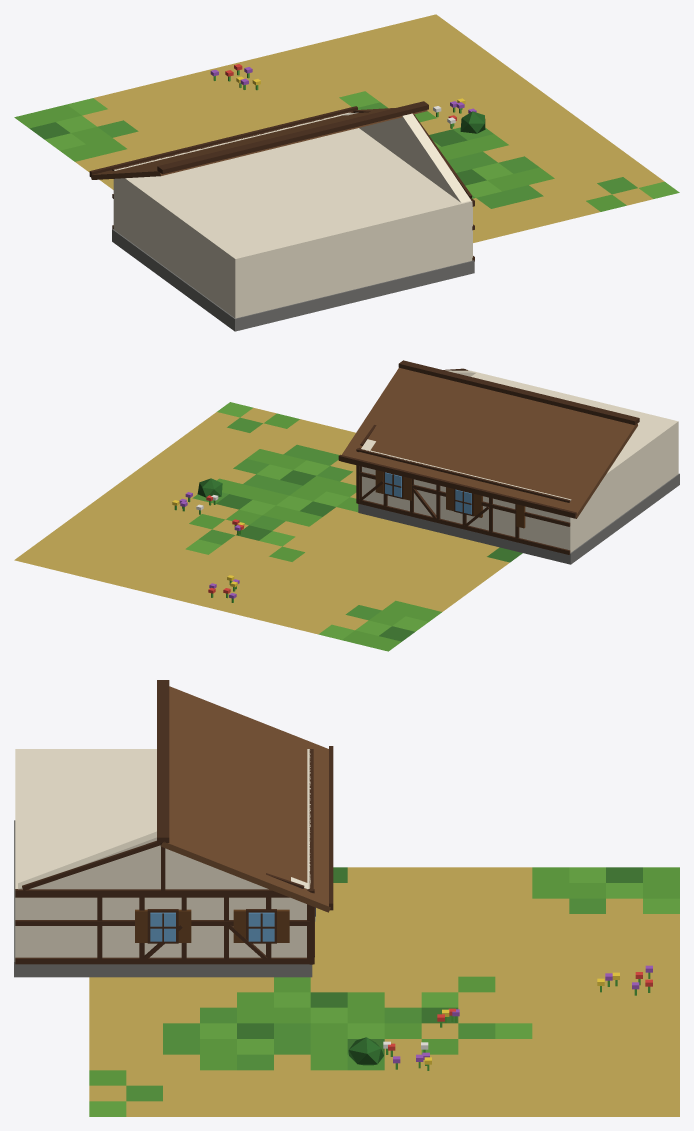
File: chunk_10_9.glb
The picture shows the model from 3 angles, top to bottom: view 1: azimuth 30°, elevation 25°; view 2: azimuth 150°, elevation 25°; view 3: azimuth 270°, elevation 25°; orthographic projection. The views are drawn at different scales.
Visible parts, largest first — view 1: chunk_10_9; view 2: chunk_10_9; view 3: chunk_10_9.
Boxes of the visible parts, <box> form: chunk_10_9: <box>14,14,679,331</box>; chunk_10_9: <box>14,360,679,651</box>; chunk_10_9: <box>14,680,679,1116</box>.
Size of the model in its own units: 18.55 by 4.5 by 18.04.
